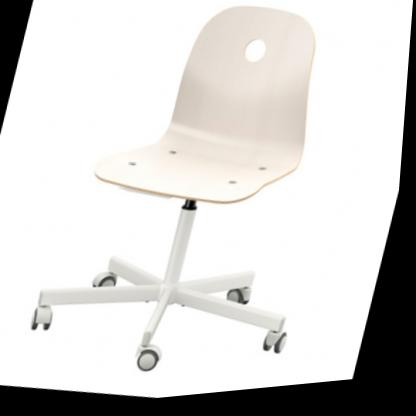Chair: (20, 0, 374, 411)
